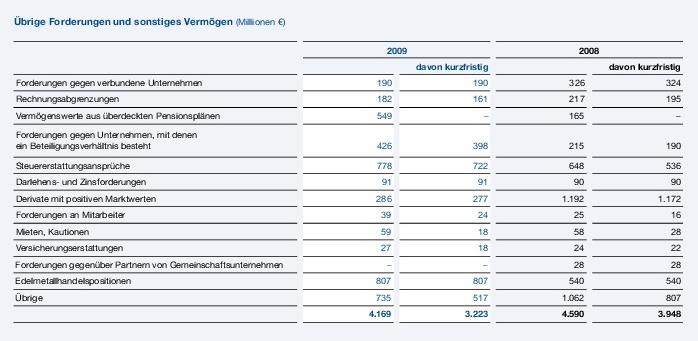table: (0, 0, 698, 341)
